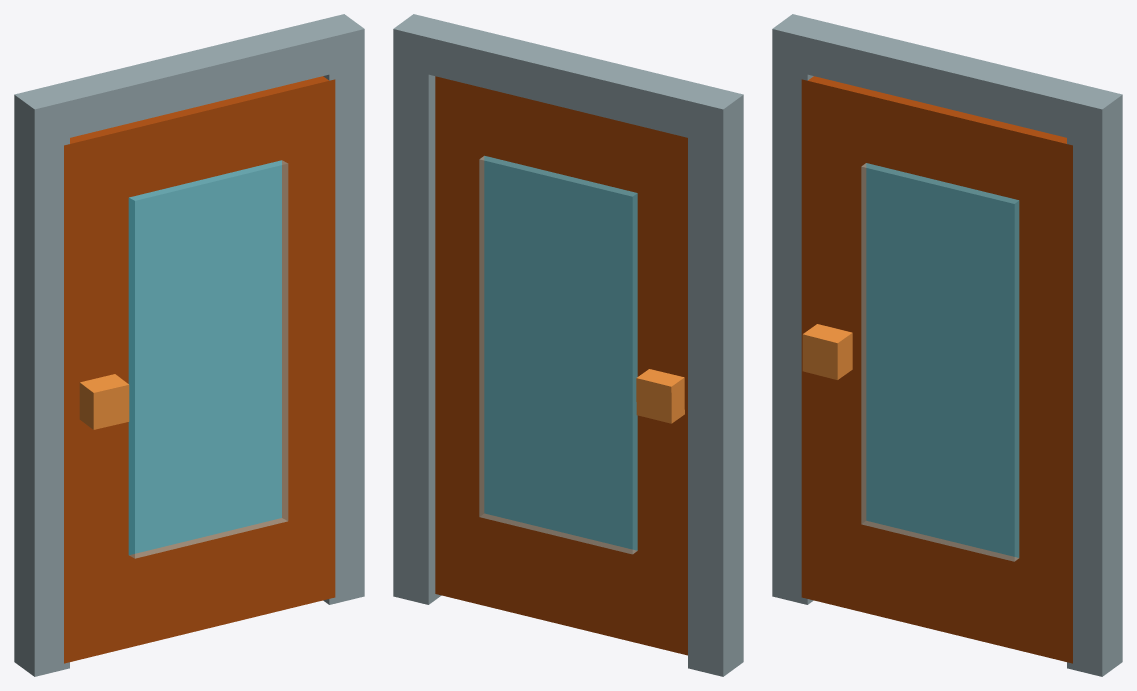
The picture shows the model from 3 angles, left to right: view 1: azimuth 30°, elevation 25°; view 2: azimuth 150°, elevation 25°; view 3: azimuth 330°, elevation 25°; orthographic projection.
Visible parts, largest first — view 1: Node-Mesh, Node-Mesh_2, Node-Mesh_3, Node-Mesh_4, Node-Mesh_1; view 2: Node-Mesh, Node-Mesh_2, Node-Mesh_3, Node-Mesh_4, Node-Mesh_1; view 3: Node-Mesh, Node-Mesh_2, Node-Mesh_3, Node-Mesh_4, Node-Mesh_1.
Boxes of the visible parts, x1=… form: Node-Mesh: x1=64, y1=76, x2=335, y2=663; Node-Mesh_2: x1=14, y1=14, x2=364, y2=676; Node-Mesh_3: x1=129, y1=160, x2=288, y2=558; Node-Mesh_4: x1=128, y1=160, x2=281, y2=554; Node-Mesh_1: x1=79, y1=374, x2=129, y2=429; Node-Mesh: x1=435, y1=76, x2=687, y2=655; Node-Mesh_2: x1=393, y1=14, x2=743, y2=676; Node-Mesh_3: x1=479, y1=156, x2=637, y2=554; Node-Mesh_4: x1=484, y1=156, x2=637, y2=550; Node-Mesh_1: x1=636, y1=369, x2=684, y2=423; Node-Mesh: x1=801, y1=76, x2=1072, y2=663; Node-Mesh_2: x1=772, y1=14, x2=1122, y2=676; Node-Mesh_3: x1=861, y1=163, x2=1018, y2=561; Node-Mesh_4: x1=866, y1=163, x2=1019, y2=557; Node-Mesh_1: x1=802, y1=324, x2=852, y2=379.
Size of the model in its own units: 0.28 by 0.46 by 0.0604.
